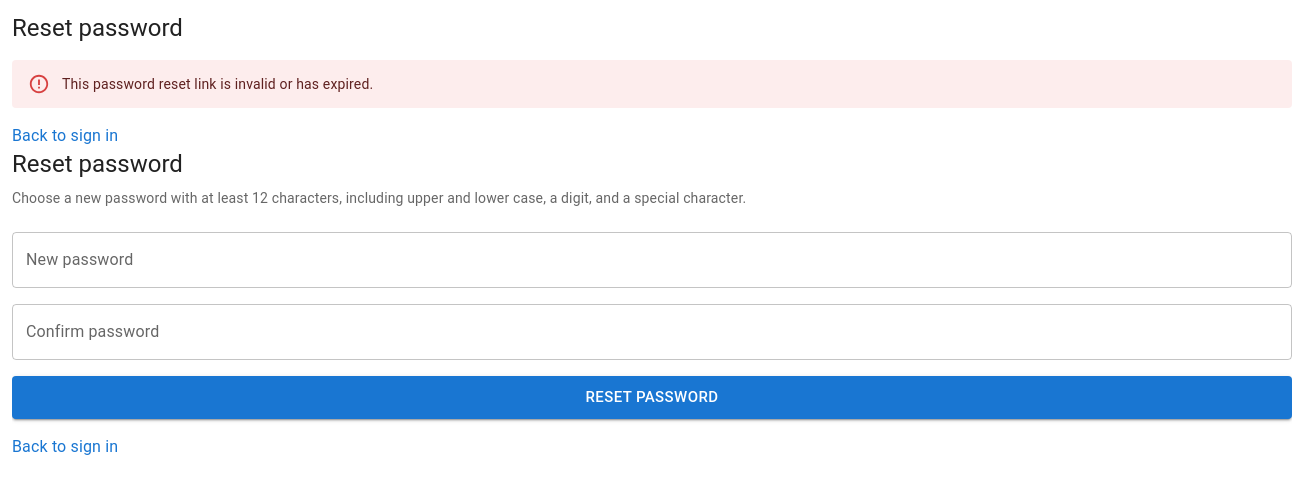
it: account recovery pages › rejects a reset without a token and a weak password
Expected: the text "This password reset link is invalid or has expired." is shown, [62, 76, 373, 92]
In the password field labelled "New password": coordinates (652, 260) [12, 232, 1292, 288], type "short"
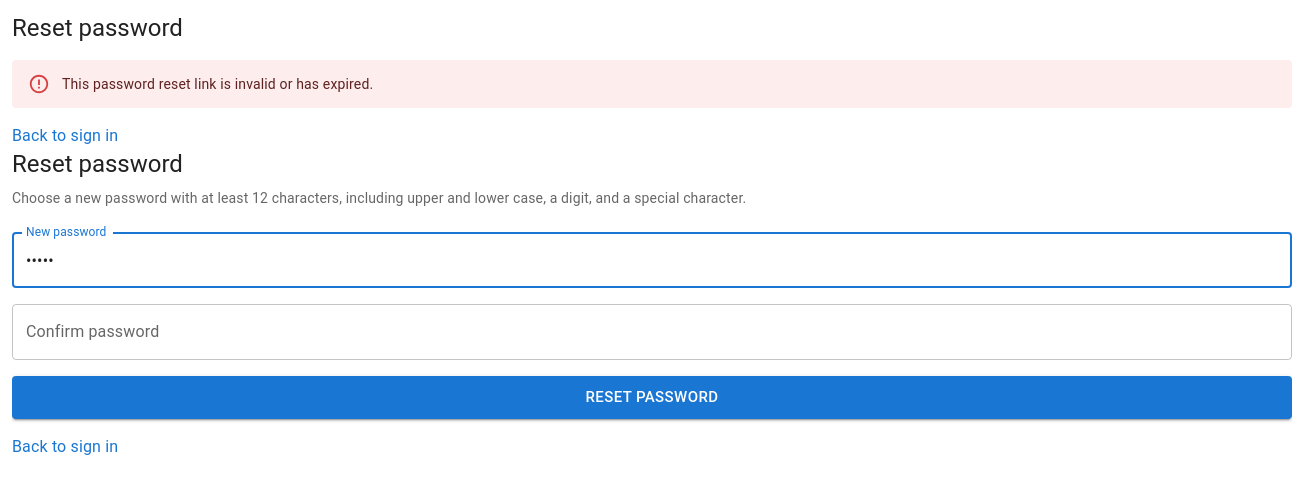
In the password field labelled "Confirm password": coordinates (652, 332) [12, 304, 1292, 360], type "short"
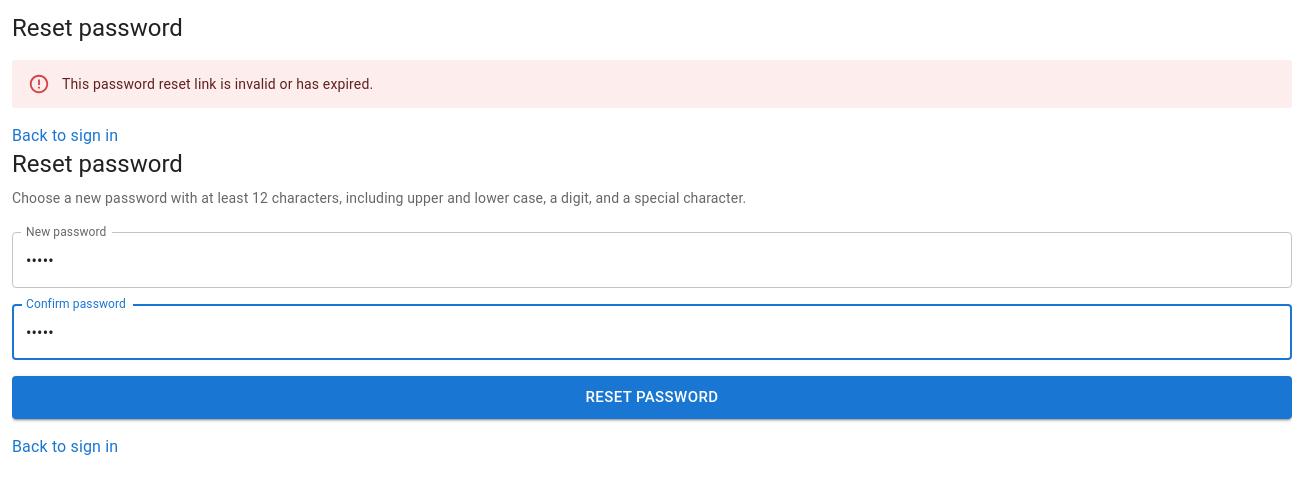
Click the button "Reset password": coordinates (652, 398) [12, 376, 1292, 419]
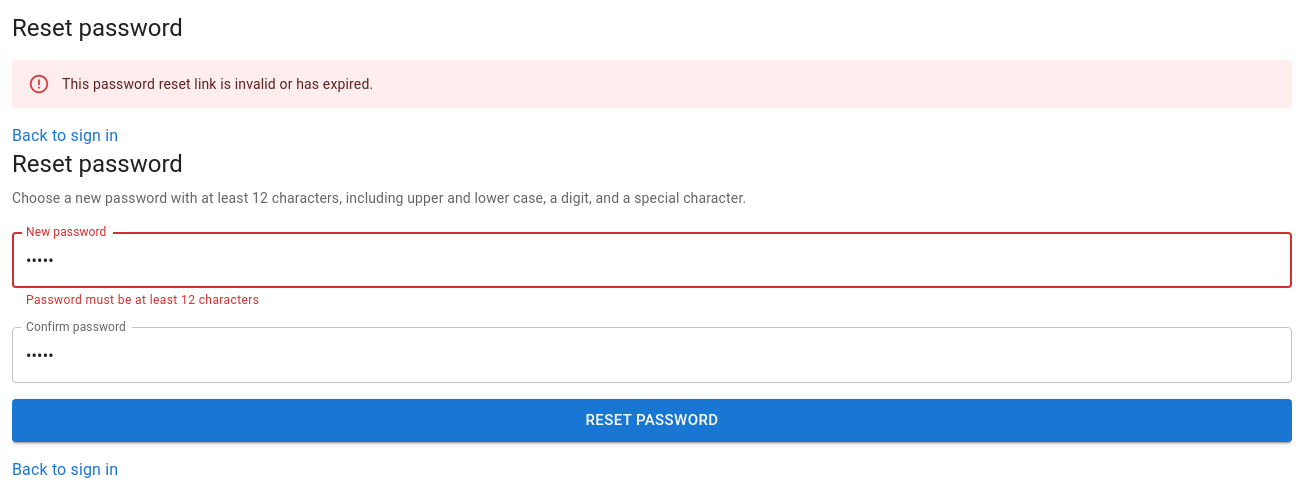
Expected: the text "Password must be at least 12 characters" is shown, [26, 294, 259, 308]
